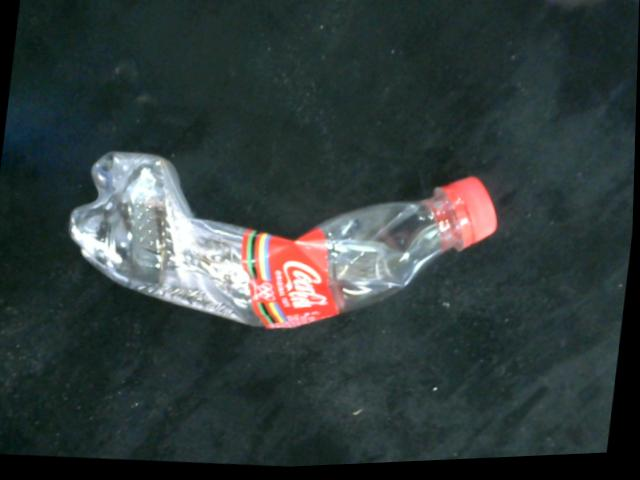bottle: (69, 150, 502, 333)
